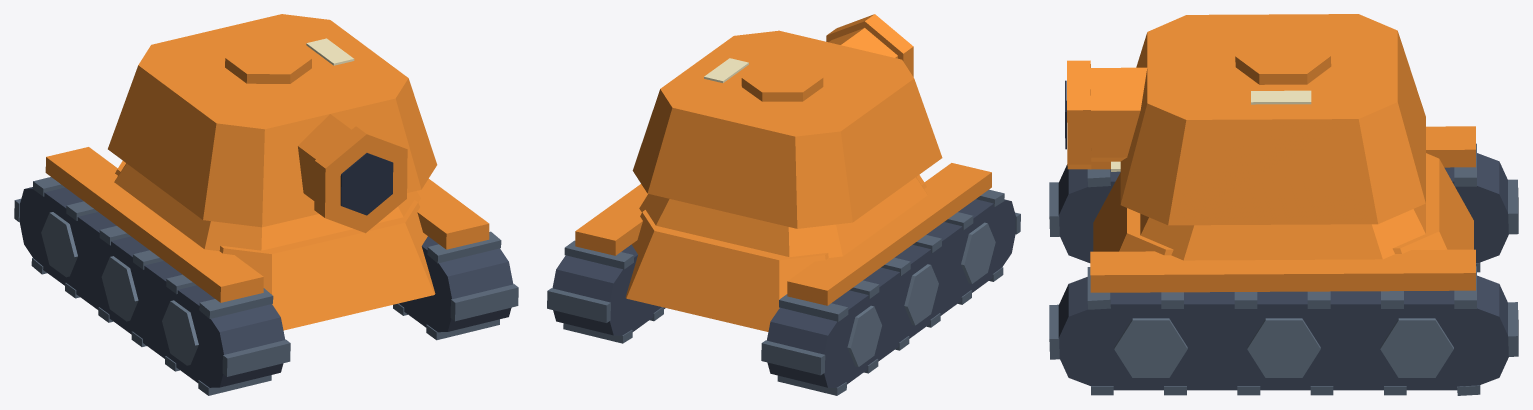
File: tank_07_tangerine_siege.glb
3 renders of one model, left to right at view 1: azimuth 30°, elevation 25°; view 2: azimuth 150°, elevation 25°; view 3: azimuth 270°, elevation 25°, orthographic. The views are drawn at different scales.
Visible parts, largest first — view 1: 07 | Faceted turret.001, 07 | Track belt.001, 07 | Lower hull.001, 07 | Track guard.001, 07 | Upper deck.001, 07 | Muzzle rim.001, 07 | Track belt.002, 07 | Track guard.002, 07 | Commander hatch.001, 07 | Bore shadow.001, 07 | Cannon tube.001, 07 | Road wheel.002 (+9 smaller); view 2: 07 | Faceted turret.001, 07 | Track belt.001, 07 | Lower hull.001, 07 | Upper deck.001, 07 | Track guard.001, 07 | Track belt.002, 07 | Track guard.002, 07 | Commander hatch.001, 07 | Muzzle rim.001, 07 | Road wheel.002, 07 | Road wheel.001, 07 | Road wheel.003 (+8 smaller); view 3: 07 | Faceted turret.001, 07 | Track belt.002, 07 | Track guard.002, 07 | Upper deck.001, 07 | Track belt.001, 07 | Lower hull.001, 07 | Cannon tube.001, 07 | Commander hatch.001, 07 | Road wheel.004, 07 | Road wheel.005, 07 | Road wheel.006, 07 | Muzzle rim.001 (+12 smaller).
Part boxes in pixels (left/top/right/bottom): 07 | Faceted turret.001: left=108, top=14, right=437, bottom=227; 07 | Track belt.001: left=19, top=187, right=285, bottom=387; 07 | Lower hull.001: left=115, top=161, right=435, bottom=330; 07 | Track guard.001: left=45, top=147, right=263, bottom=302; 07 | Upper deck.001: left=114, top=163, right=420, bottom=251; 07 | Muzzle rim.001: left=314, top=126, right=407, bottom=233; 07 | Track belt.002: left=399, top=236, right=513, bottom=332; 07 | Track guard.002: left=417, top=179, right=489, bottom=249; 07 | Commander hatch.001: left=225, top=42, right=311, bottom=83; 07 | Bore shadow.001: left=340, top=153, right=393, bottom=215; 07 | Cannon tube.001: left=298, top=114, right=371, bottom=200; 07 | Road wheel.002: left=101, top=256, right=138, bottom=321; 07 | Faceted turret.001: left=632, top=30, right=942, bottom=228; 07 | Track belt.001: left=766, top=199, right=1015, bottom=387; 07 | Lower hull.001: left=625, top=174, right=926, bottom=331; 07 | Upper deck.001: left=639, top=177, right=927, bottom=257; 07 | Track guard.001: left=787, top=163, right=991, bottom=305; 07 | Track belt.002: left=552, top=244, right=665, bottom=335; 07 | Track guard.002: left=575, top=184, right=647, bottom=255; 07 | Commander hatch.001: left=741, top=63, right=823, bottom=101; 07 | Muzzle rim.001: left=826, top=14, right=913, bottom=76; 07 | Road wheel.002: left=904, top=264, right=938, bottom=325; 07 | Road wheel.001: left=961, top=222, right=995, bottom=283; 07 | Road wheel.003: left=847, top=305, right=881, bottom=366; 07 | Faceted turret.001: left=1120, top=14, right=1425, bottom=225; 07 | Track belt.002: left=1058, top=275, right=1508, bottom=390; 07 | Track guard.002: left=1090, top=249, right=1475, bottom=292; 07 | Upper deck.001: left=1140, top=203, right=1425, bottom=260; 07 | Track belt.001: left=1058, top=153, right=1508, bottom=262; 07 | Lower hull.001: left=1093, top=153, right=1473, bottom=255; 07 | Cannon tube.001: left=1090, top=67, right=1147, bottom=161; 07 | Commander hatch.001: left=1235, top=38, right=1331, bottom=84; 07 | Road wheel.004: left=1114, top=318, right=1187, bottom=377; 07 | Road wheel.005: left=1247, top=318, right=1320, bottom=377; 07 | Road wheel.006: left=1380, top=318, right=1453, bottom=377; 07 | Muzzle rim.001: left=1067, top=60, right=1091, bottom=169.
Bounding box in the file's own units: 1.74 × 1.34 × 2.17.
